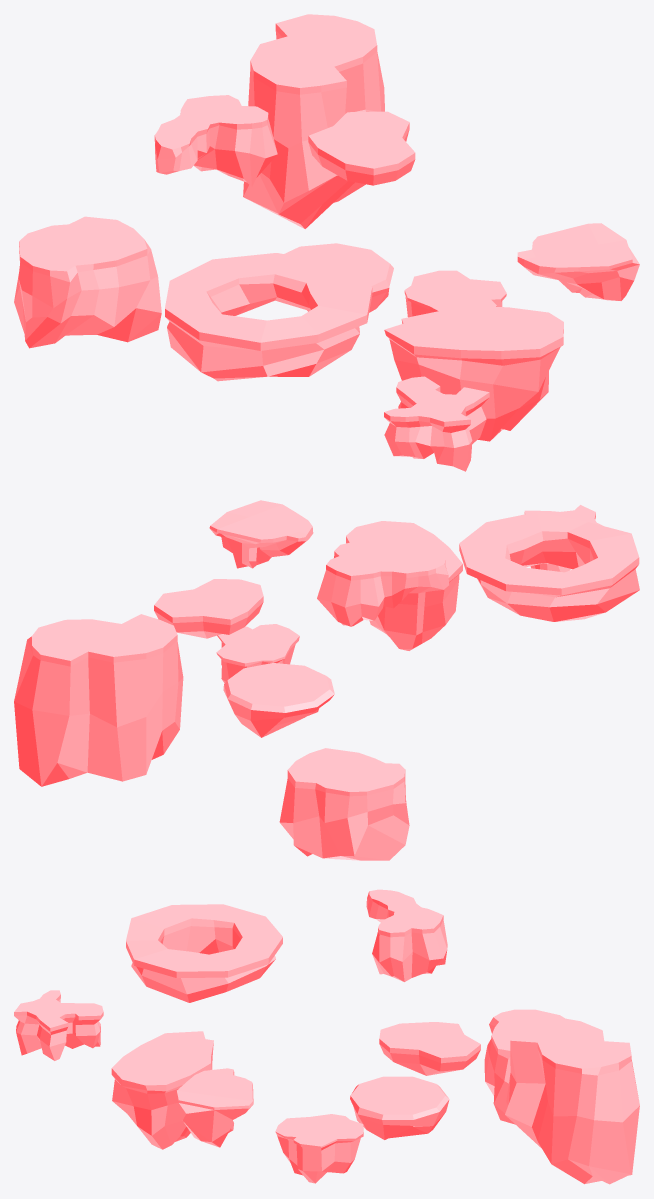
The model's file is platforms.glb.
3 renders of one model, top to bottom at view 1: azimuth 30°, elevation 25°; view 2: azimuth 150°, elevation 25°; view 3: azimuth 270°, elevation 25°, orthographic. The views are drawn at different scales.
Visible parts, largest first — view 1: rock.007, rock.009, rock.011, rock.008, rock.005, rock.006, rock.004, rock.010, rock, rock.001; view 2: rock.009, rock.007, rock.011, rock.005, rock.008, rock.001, rock.010, rock.004, rock, rock.006; view 3: rock.009, rock.007, rock.008, rock.005, rock.001, rock, rock.006, rock.010, rock.004, rock.011.
Boxes of the visible parts, bbox=[...] form: rock.007: bbox=[165, 253, 372, 381]; rock.009: bbox=[243, 14, 384, 228]; rock.011: bbox=[14, 216, 161, 348]; rock.008: bbox=[384, 305, 563, 441]; rock.005: bbox=[154, 95, 277, 187]; rock.006: bbox=[384, 376, 489, 471]; rock.004: bbox=[517, 223, 639, 300]; rock.010: bbox=[308, 111, 415, 185]; rock: bbox=[404, 270, 506, 317]; rock.001: bbox=[284, 243, 393, 312]; rock.009: bbox=[14, 614, 183, 786]; rock.007: bbox=[459, 512, 639, 621]; rock.011: bbox=[279, 748, 409, 860]; rock.005: bbox=[317, 542, 448, 626]; rock.008: bbox=[346, 521, 462, 650]; rock.001: bbox=[223, 663, 334, 737]; rock.010: bbox=[154, 579, 263, 638]; rock.004: bbox=[209, 500, 313, 568]; rock: bbox=[216, 624, 299, 683]; rock.006: bbox=[524, 505, 602, 572]; rock.009: bbox=[505, 1018, 639, 1184]; rock.007: bbox=[126, 904, 282, 1002]; rock.008: bbox=[111, 1031, 213, 1149]; rock.005: bbox=[366, 889, 447, 981]; rock.001: bbox=[350, 1076, 449, 1139]; rock: bbox=[275, 1114, 363, 1183]; rock.006: bbox=[14, 990, 103, 1060]; rock.010: bbox=[379, 1022, 480, 1075]; rock.004: bbox=[177, 1068, 253, 1147]; rock.011: bbox=[484, 1009, 564, 1124].
Bounding box in the file's own units: 16.08 × 9.28 × 24.55.
